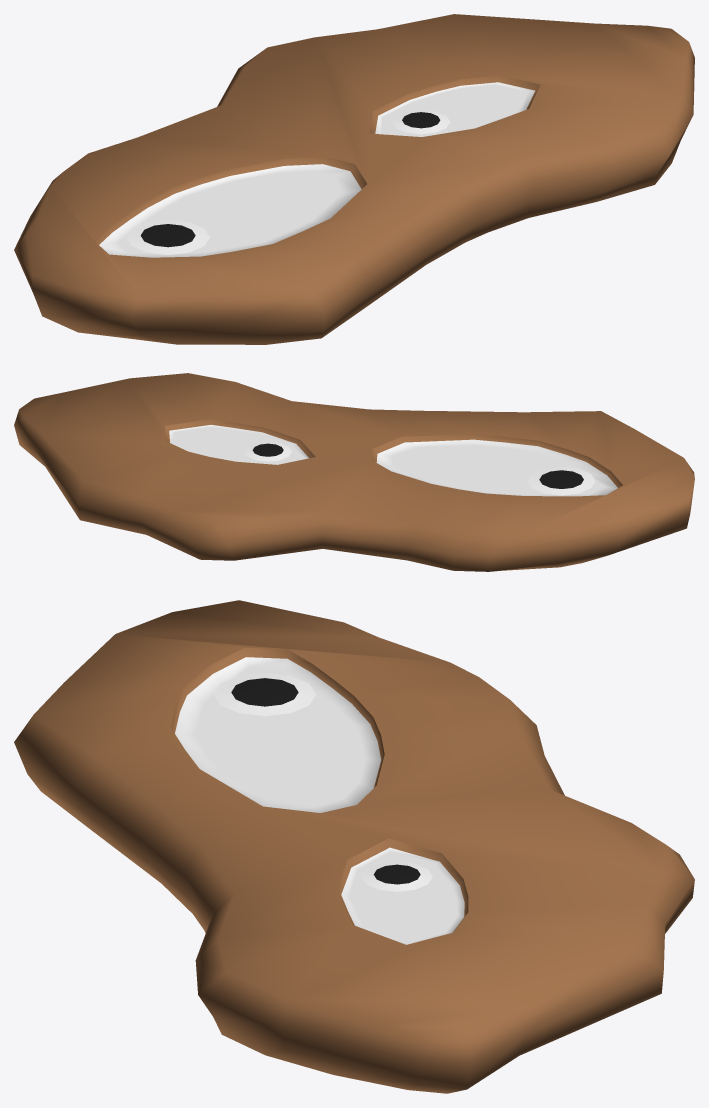
Rendered from Weary Observers.fbx.
The picture shows the model from 3 angles, top to bottom: view 1: azimuth 30°, elevation 25°; view 2: azimuth 150°, elevation 25°; view 3: azimuth 270°, elevation 25°; orthographic projection. The views are drawn at different scales.
Visible parts, largest first — view 1: Weary Observers - shariar01 (Mr Fear); view 2: Weary Observers - shariar01 (Mr Fear); view 3: Weary Observers - shariar01 (Mr Fear).
Boxes of the visible parts, x1=… form: Weary Observers - shariar01 (Mr Fear): x1=14, y1=14, x2=694, y2=344; Weary Observers - shariar01 (Mr Fear): x1=14, y1=373, x2=694, y2=571; Weary Observers - shariar01 (Mr Fear): x1=14, y1=600, x2=694, y2=1093.
Bounding box in the file's own units: 45.22 × 3.21 × 29.52.
